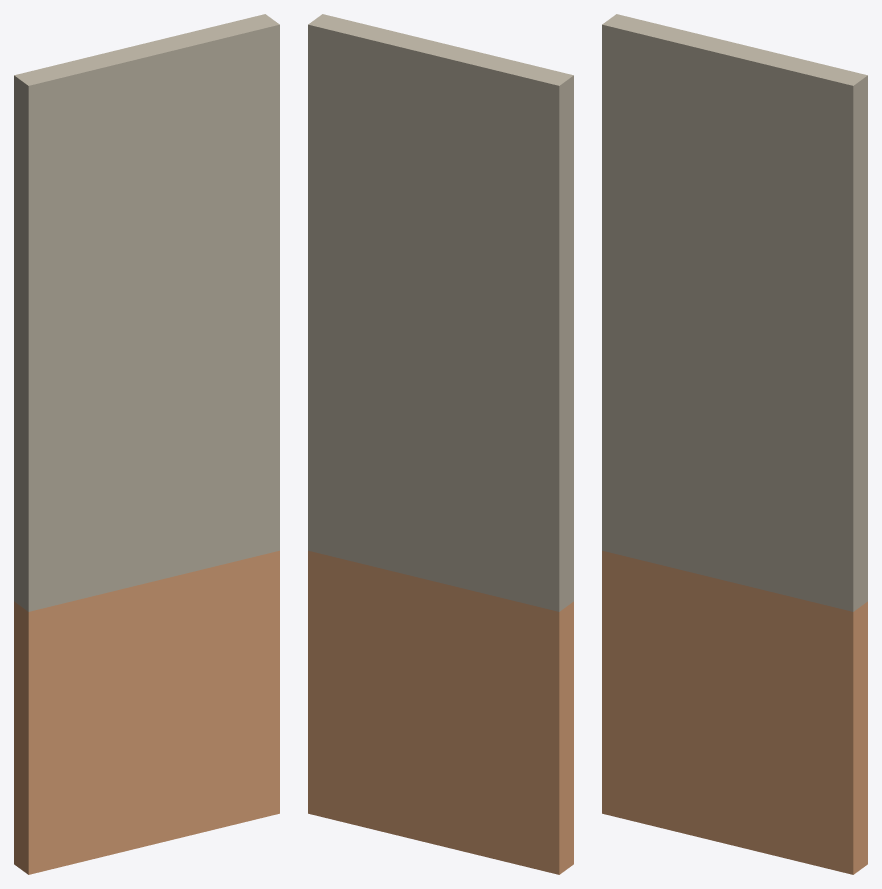
File: Mesh_Wall2Colors_C1.fbx
3 renders of one model, left to right at view 1: azimuth 30°, elevation 25°; view 2: azimuth 150°, elevation 25°; view 3: azimuth 330°, elevation 25°, orthographic.
Parts seen in each view (by area): view 1: Mesh_Wall2Colors_C1; view 2: Mesh_Wall2Colors_C1; view 3: Mesh_Wall2Colors_C1.
Part boxes in pixels (left/top/right/bottom): Mesh_Wall2Colors_C1: left=14, top=14, right=279, bottom=874; Mesh_Wall2Colors_C1: left=308, top=14, right=573, bottom=874; Mesh_Wall2Colors_C1: left=602, top=14, right=867, bottom=874.
Bounding box in the file's own units: 1 × 3 × 0.1.
